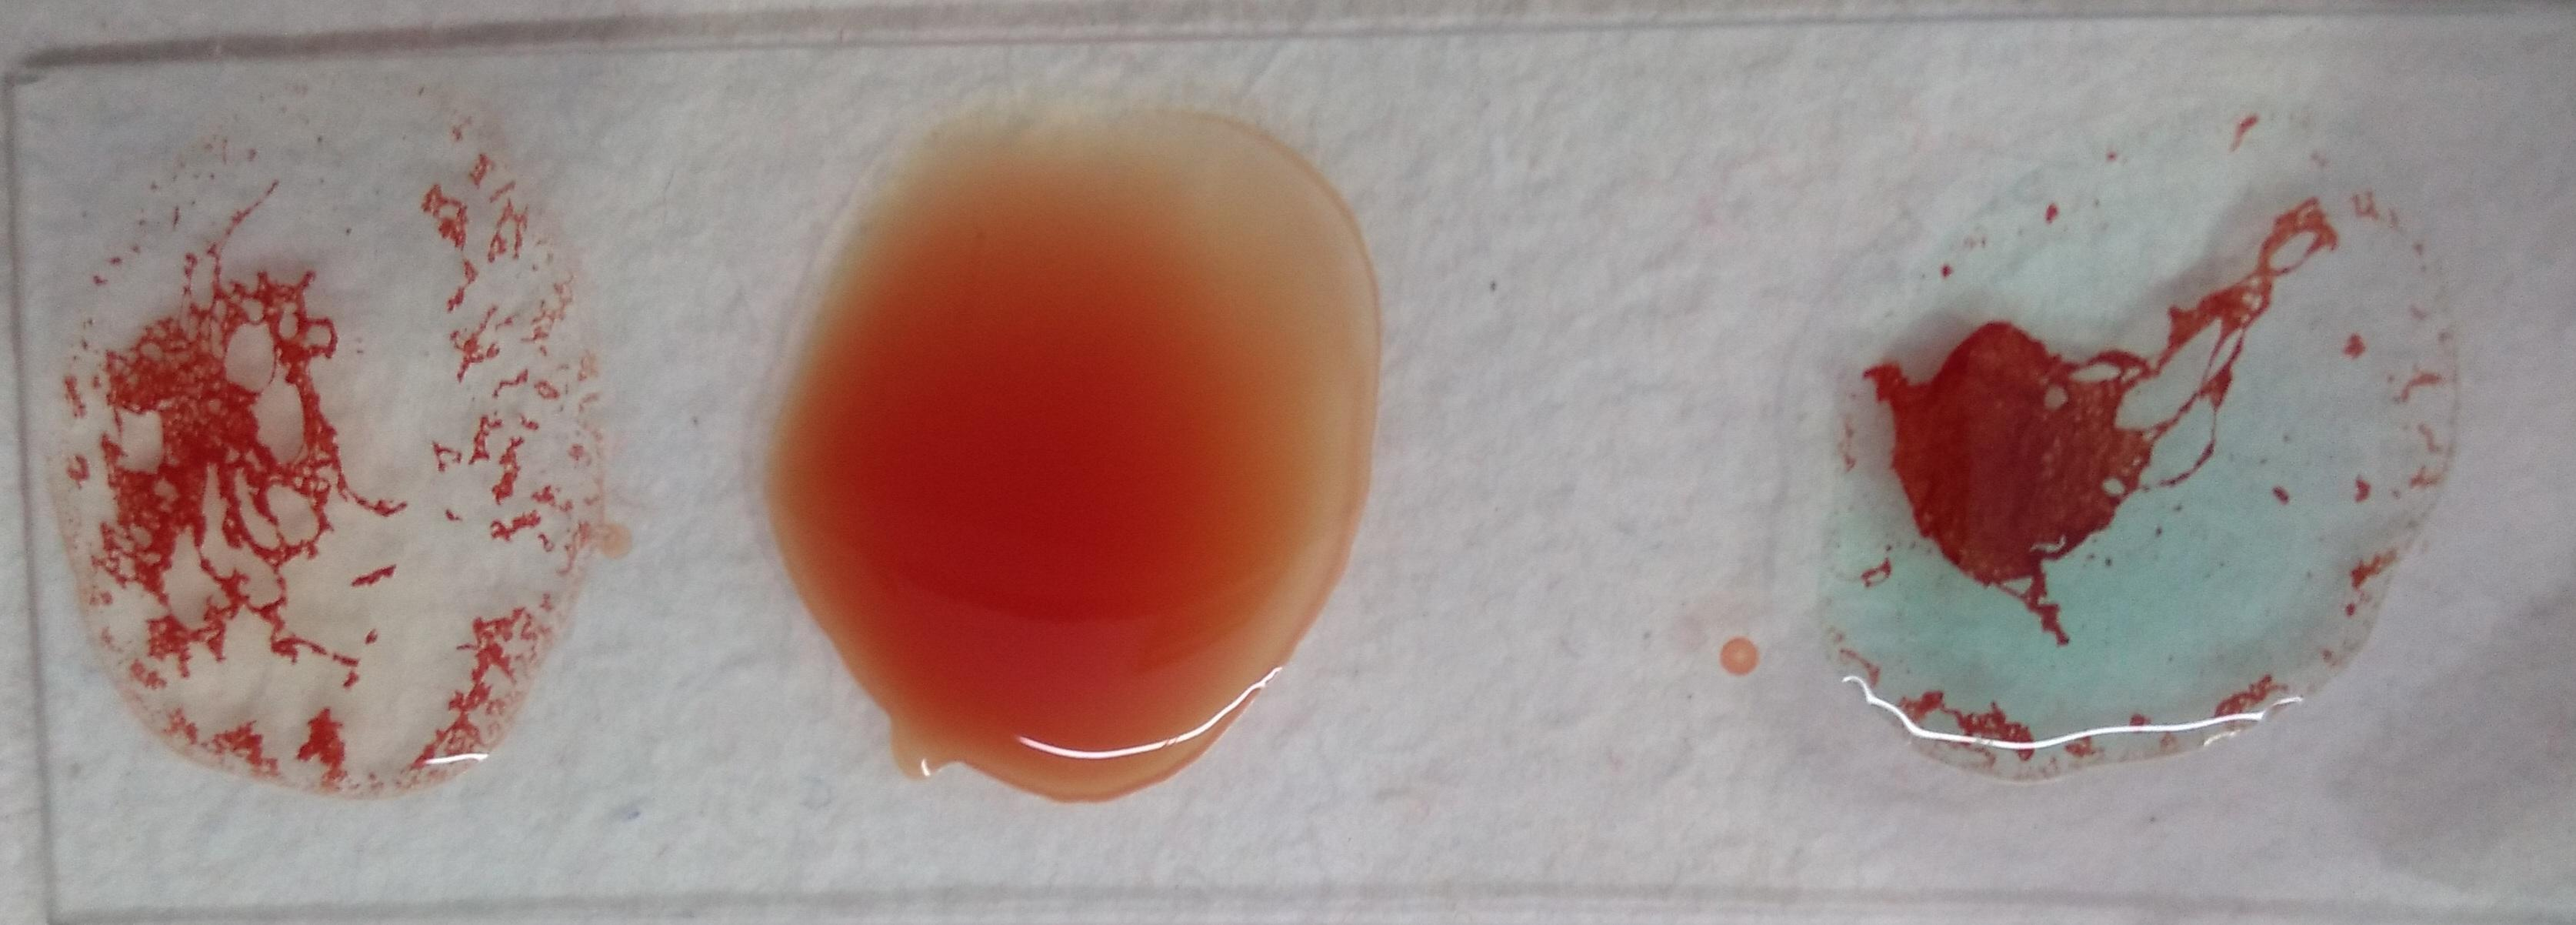A: (1827, 110, 2448, 779)
D: (39, 117, 598, 805)
